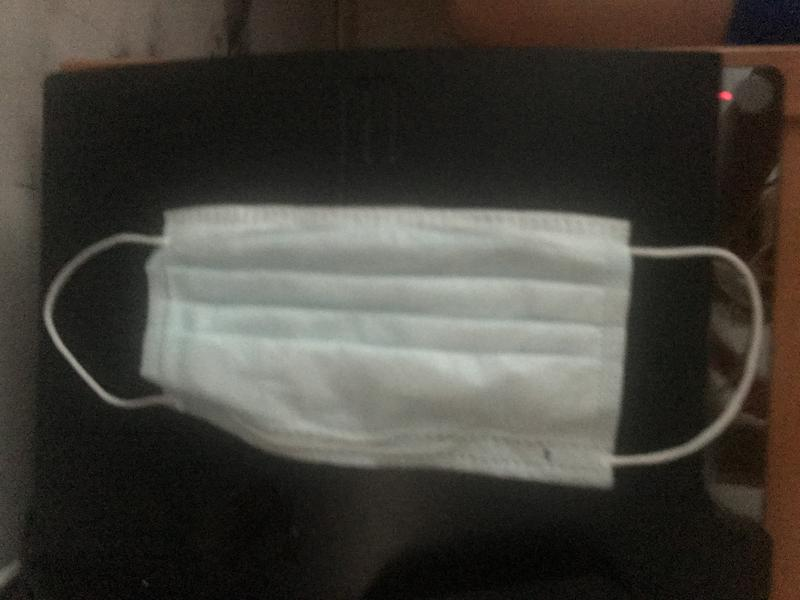medical_mask: (45, 208, 758, 489)
